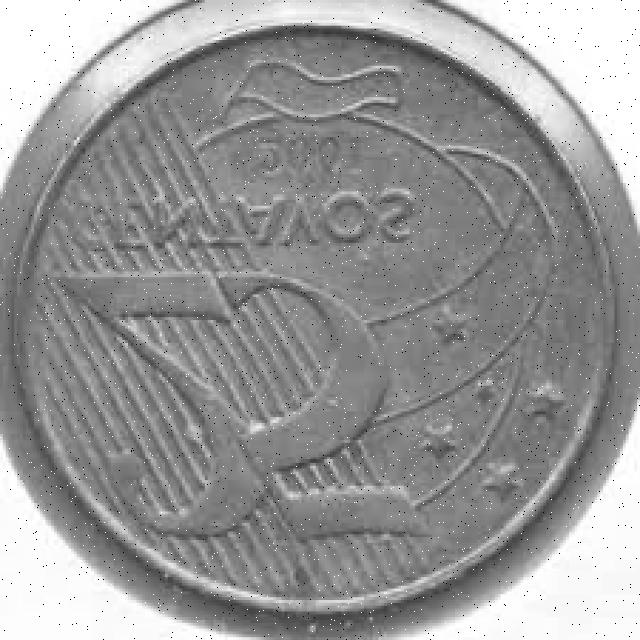25 cent: (18, 24, 620, 610)
